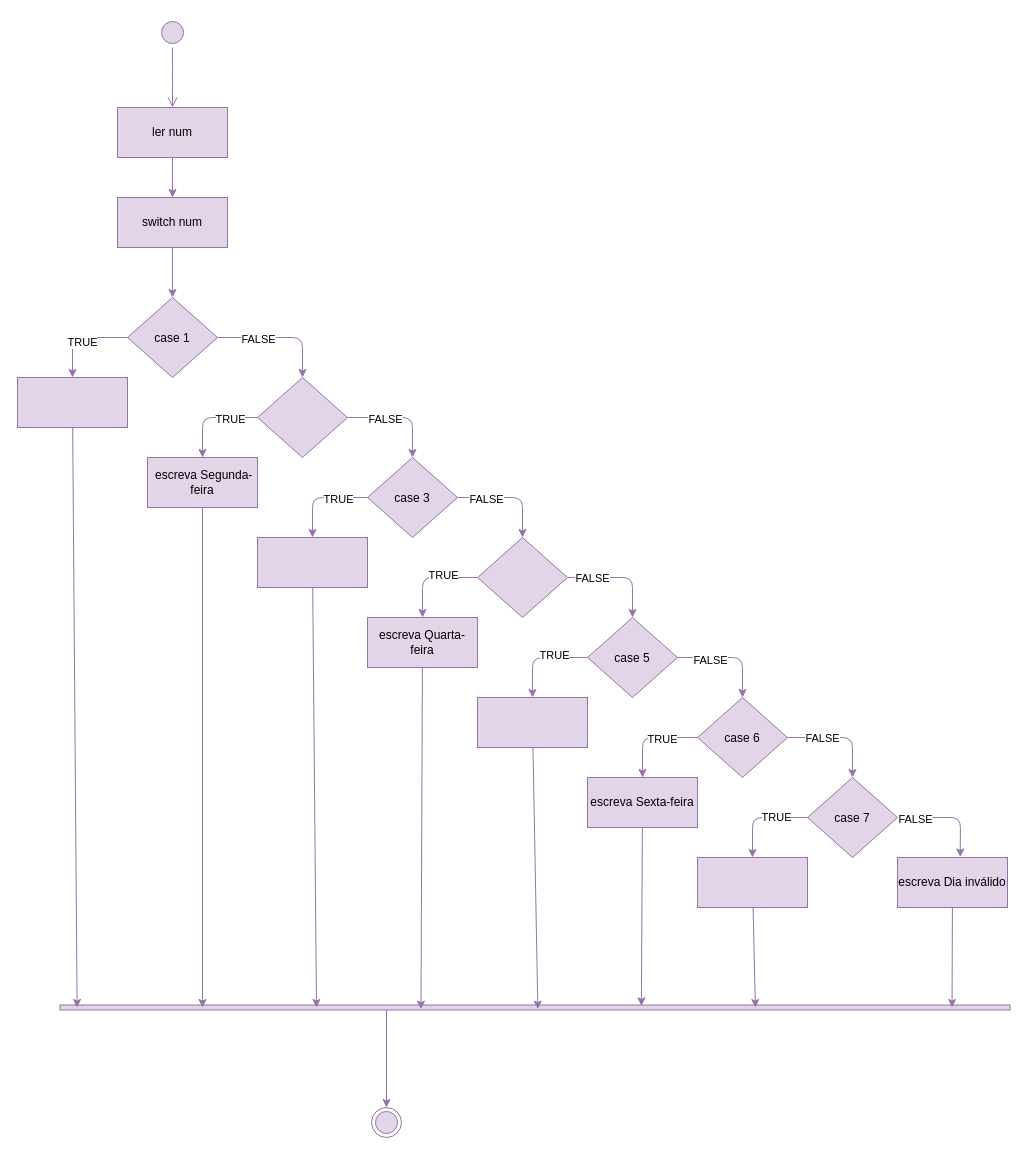
Image size: 1028x1155. Some labels were removed from this diagram. The centre of each missing label's shape, as x and y in pixels:
"case 2" goes at (302,417).
"case 4" goes at (522,577).
"escreva Domingo" goes at (72,402).
"escreva Quinta-feira" goes at (532,722).
"escreva Sábado" goes at (752,882).
"escreva Terça-feira" goes at (312,562).
